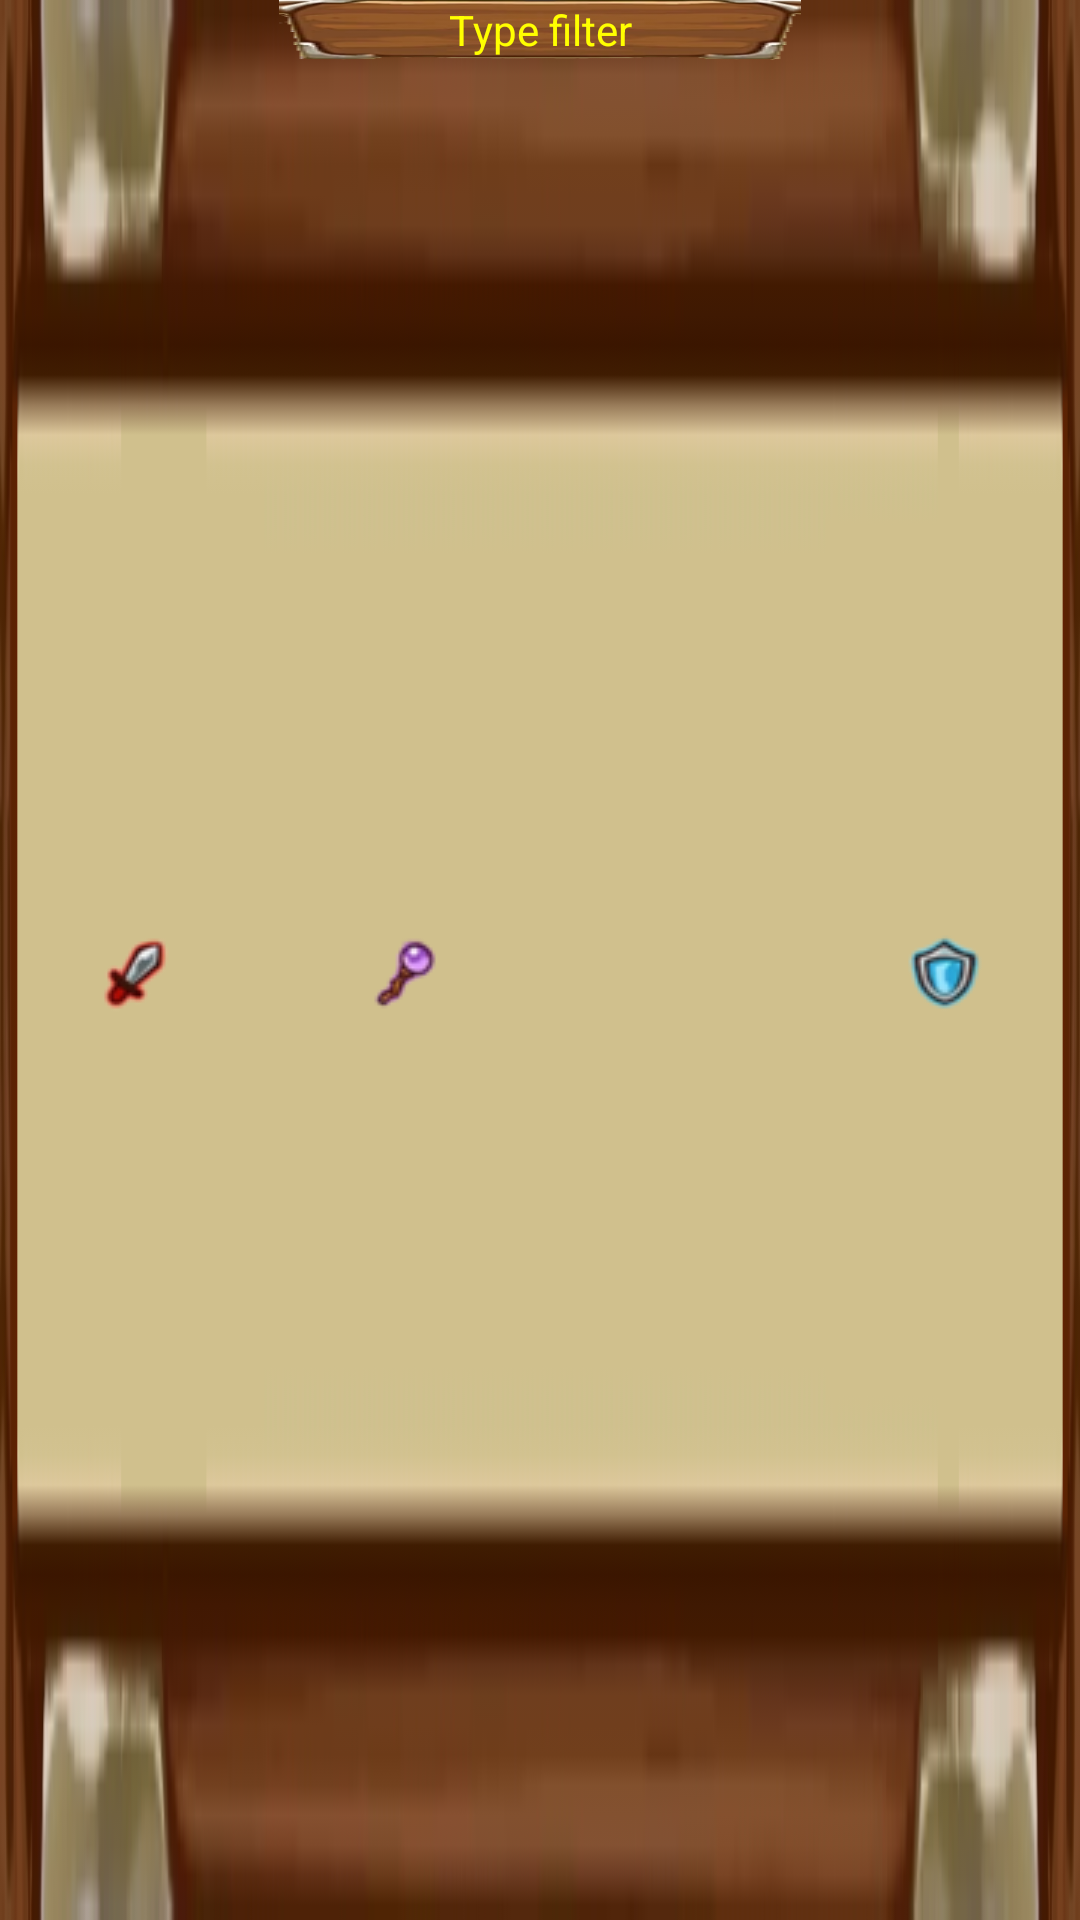

Icons on this 1080w x 1920h Android screen, each with the point to tap as point (x, y):
defender: point (944, 973)
mage: point (405, 973)
